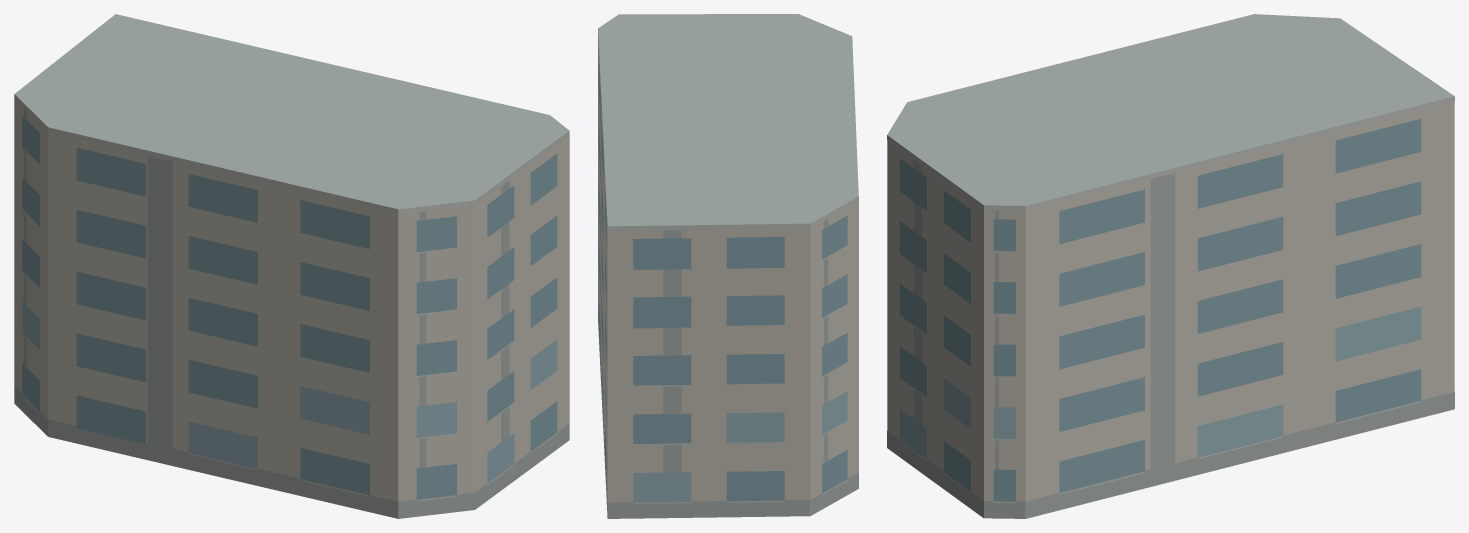
File: residential-3e48e326-927f-46fb-b6dd-ba528c43779f.glb
3 views of the same model, side by side, from view 1: azimuth 30°, elevation 25°; view 2: azimuth 150°, elevation 25°; view 3: azimuth 270°, elevation 25° (orthographic). The views are drawn at different scales.
Visible parts, largest first — view 1: residential-3e48e326-927f-46fb-b6dd-ba528c43779f.tmp; view 2: residential-3e48e326-927f-46fb-b6dd-ba528c43779f.tmp; view 3: residential-3e48e326-927f-46fb-b6dd-ba528c43779f.tmp.
Boxes of the visible parts, bbox=[...] form: residential-3e48e326-927f-46fb-b6dd-ba528c43779f.tmp: bbox=[14, 14, 569, 518]; residential-3e48e326-927f-46fb-b6dd-ba528c43779f.tmp: bbox=[598, 14, 858, 518]; residential-3e48e326-927f-46fb-b6dd-ba528c43779f.tmp: bbox=[887, 14, 1454, 518].
Size of the model in its own units: 18.94 by 14.4 by 23.68.
